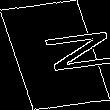N_W: (10, 30, 100, 80)
